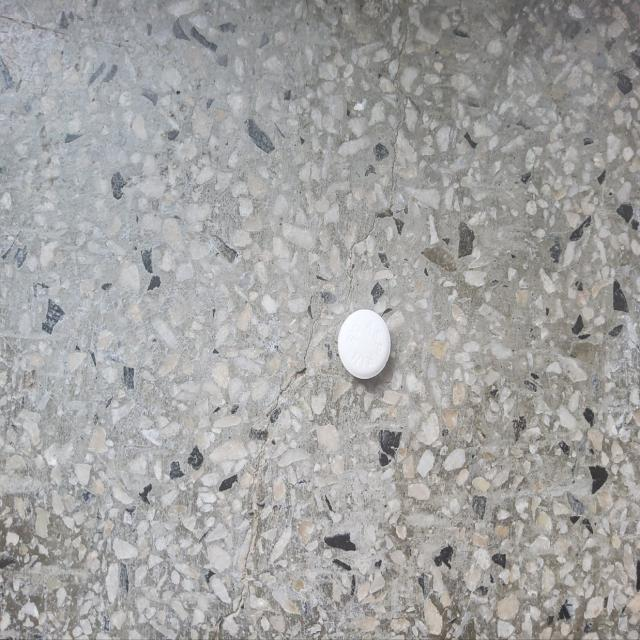-: (331, 291, 403, 396)
